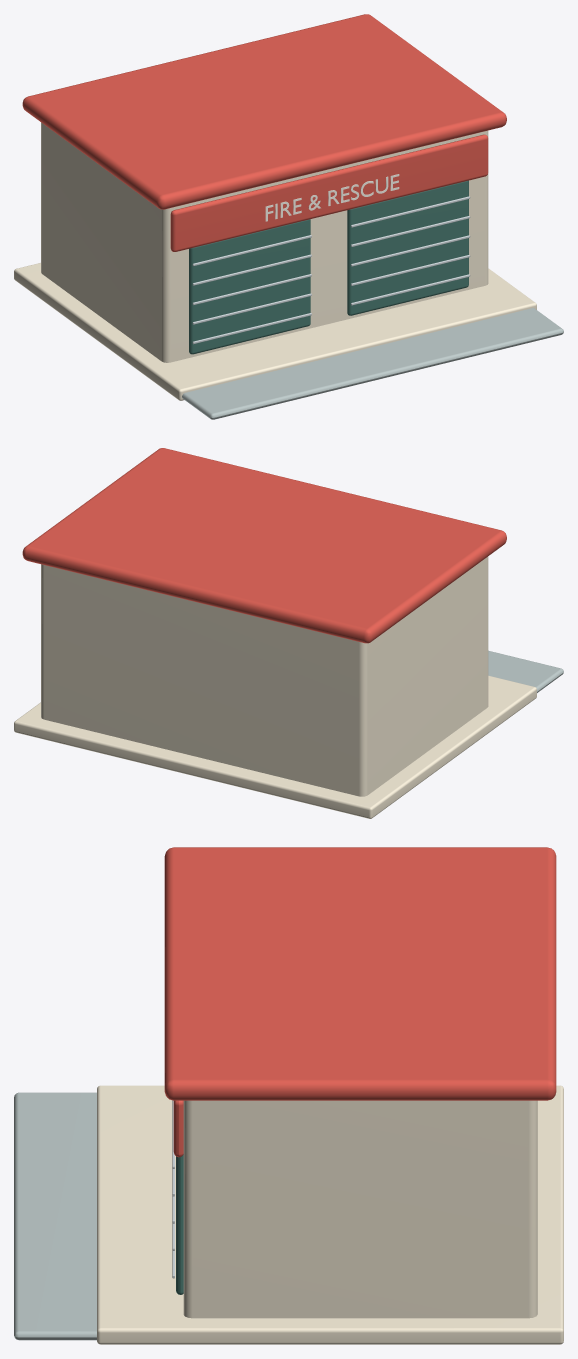
File: fire-station.glb
The picture shows the model from 3 angles, top to bottom: view 1: azimuth 30°, elevation 25°; view 2: azimuth 150°, elevation 25°; view 3: azimuth 270°, elevation 25°; orthographic projection. The views are drawn at different scales.
Visible parts, largest first — view 1: roof, foundation, garage, front apron, door slat, Text; view 2: foundation, roof, front apron; view 3: foundation, roof, front apron, garage.
Boxes of the visible parts, x1,y1,x2,y2 form: roof: (22,14,506,251); foundation: (14,122,536,400); garage: (189,180,468,354); front apron: (182,308,563,419); door slat: (192,196,470,344); Text: (265,174,399,221); foundation: (14,556,536,818); roof: (22,448,506,643); front apron: (488,650,563,692); foundation: (97,1085,563,1344); roof: (164,847,556,1157); front apron: (14,1092,96,1340); garage: (176,1155,183,1294).
Size of the model in its own units: 7.7 by 3.8 by 7.3.
